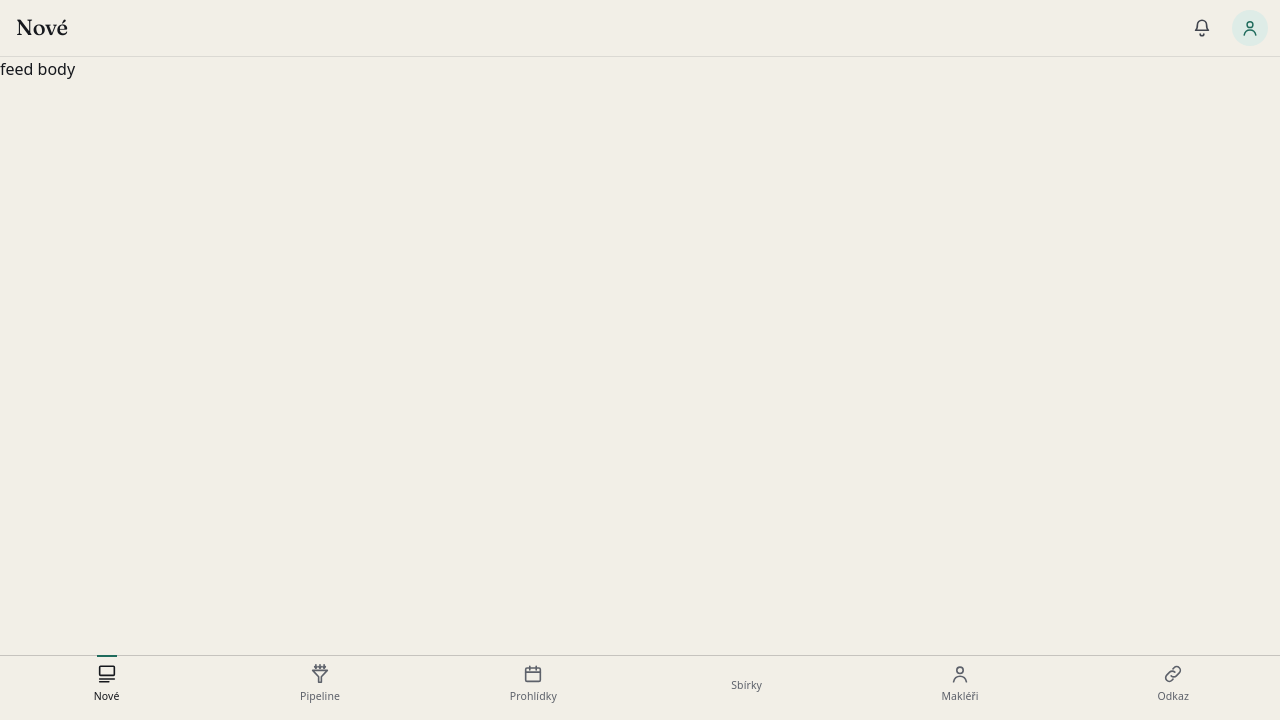
the push switch in the account sheet › is off, and usable, with no subscription
Click the button named "Účet". click: click(1250, 28)
box: x1=1232 y1=10 x2=1268 y2=46
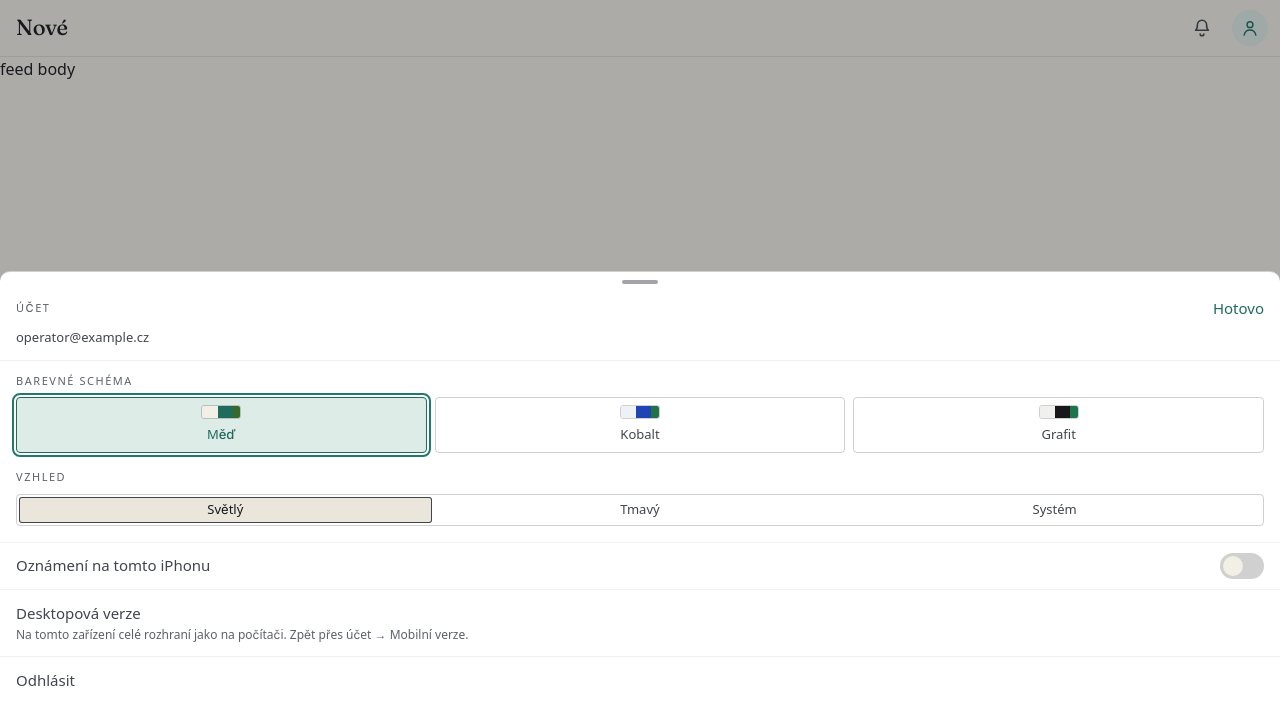
Now the switch labelled "Oznámení na tomto iPhonu" is enabled, box x1=0 y1=542 x2=1279 y2=590
